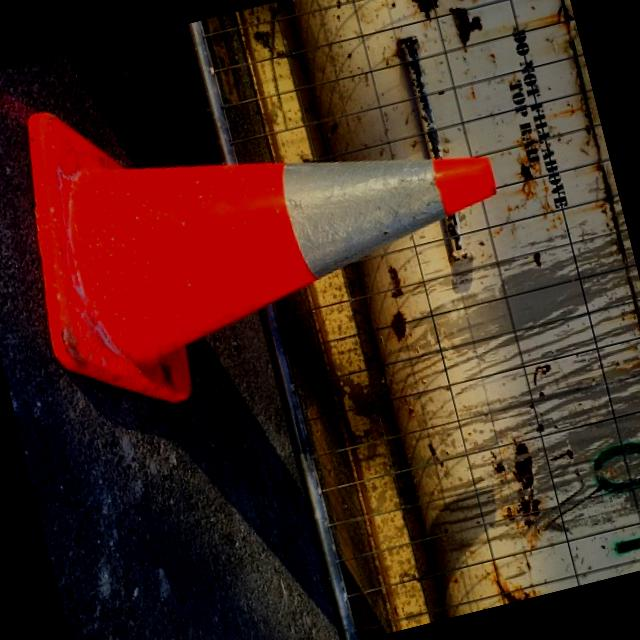cone: (11, 34, 534, 400)
